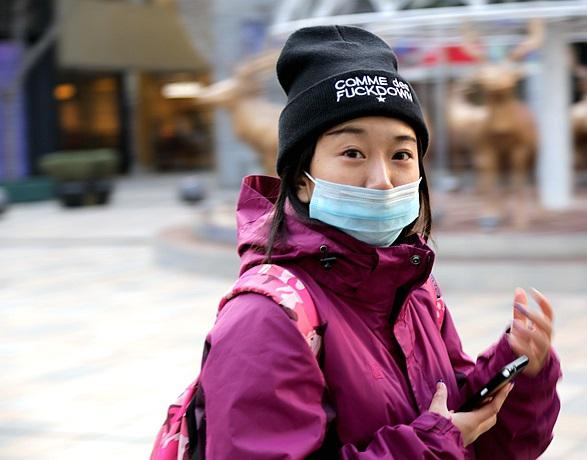WRONG: (309, 121, 430, 242)
